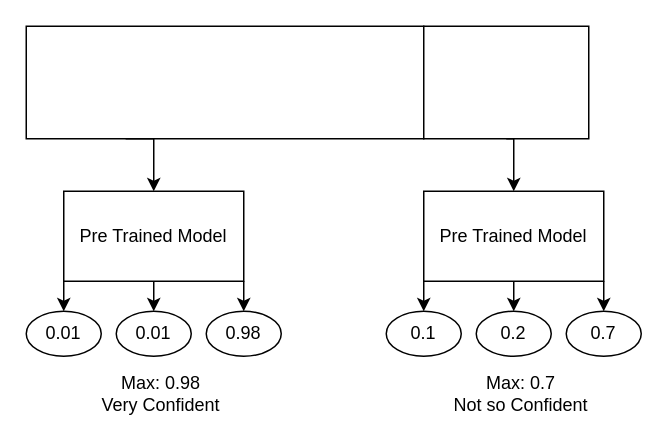
Some shapes in this 668 by 443 pixel diagram are drawn without their labels. The shapes that lost their labels are listed below. From the top down, each one's box as (x1, y1, x2, y2) in pixels, then its label:
(25, 25, 424, 139): All other rooms (training set)
(422, 25, 589, 139): Room 3 (test set)
